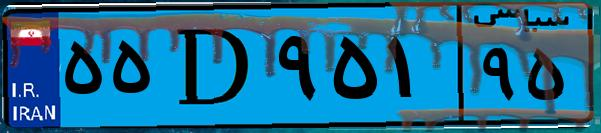1: (385, 28, 445, 110)
5: (330, 28, 385, 110), (57, 26, 110, 100), (525, 38, 570, 115), (110, 28, 158, 98)
9: (270, 28, 330, 110), (475, 38, 525, 113)
D: (158, 12, 270, 120)
